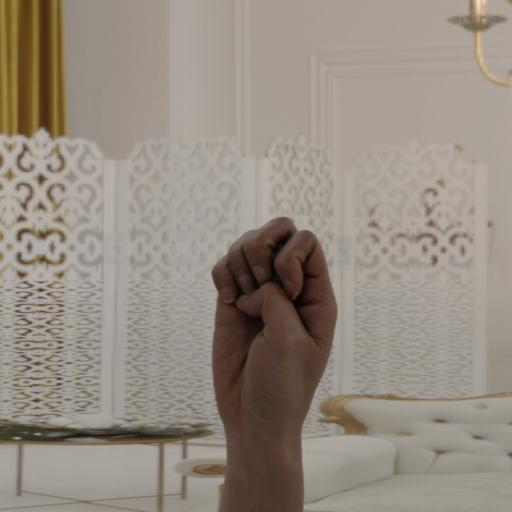E: (202, 208, 349, 462)
